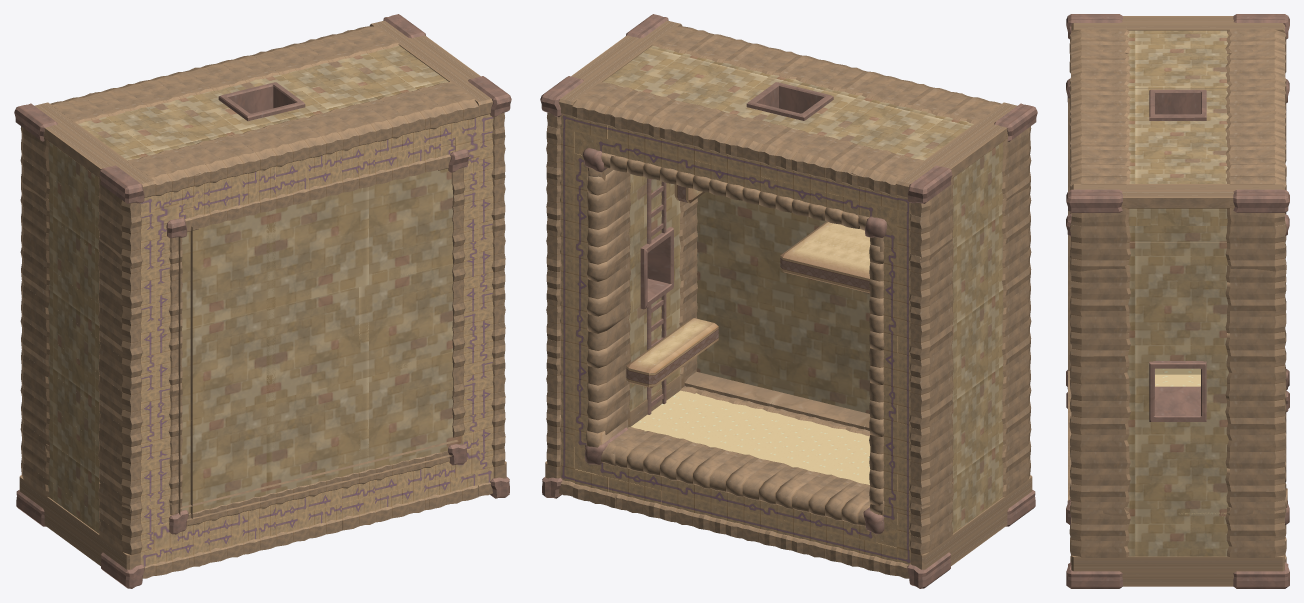
File: KeyRoom.fbx
3 views of the same model, side by side, from view 1: azimuth 30°, elevation 25°; view 2: azimuth 150°, elevation 25°; view 3: azimuth 270°, elevation 25° (orthographic). The views are drawn at different scales.
Parts seen in each view (by area): view 1: RoomEdges_Elbow, RoomWall_Elbow; view 2: RoomEdges_Elbow, RoomWall_Elbow; view 3: RoomEdges_Elbow, RoomWall_Elbow.
Part boxes in pixels (x1,y1,x2,y2): RoomEdges_Elbow: (14,14,511,588); RoomWall_Elbow: (173,168,461,520); RoomEdges_Elbow: (540,14,1037,588); RoomWall_Elbow: (684,192,870,430); RoomEdges_Elbow: (1066,14,1289,588); RoomWall_Elbow: (1068,98,1071,500).
Bounding box in the file's own units: 5318 × 5312 × 2726.
Materials: 7 (7 with a texture image).
